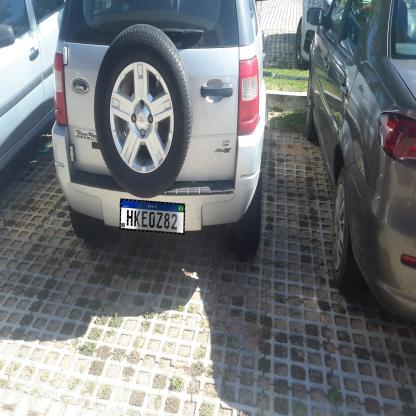PlacaM: (120, 198, 185, 235)
